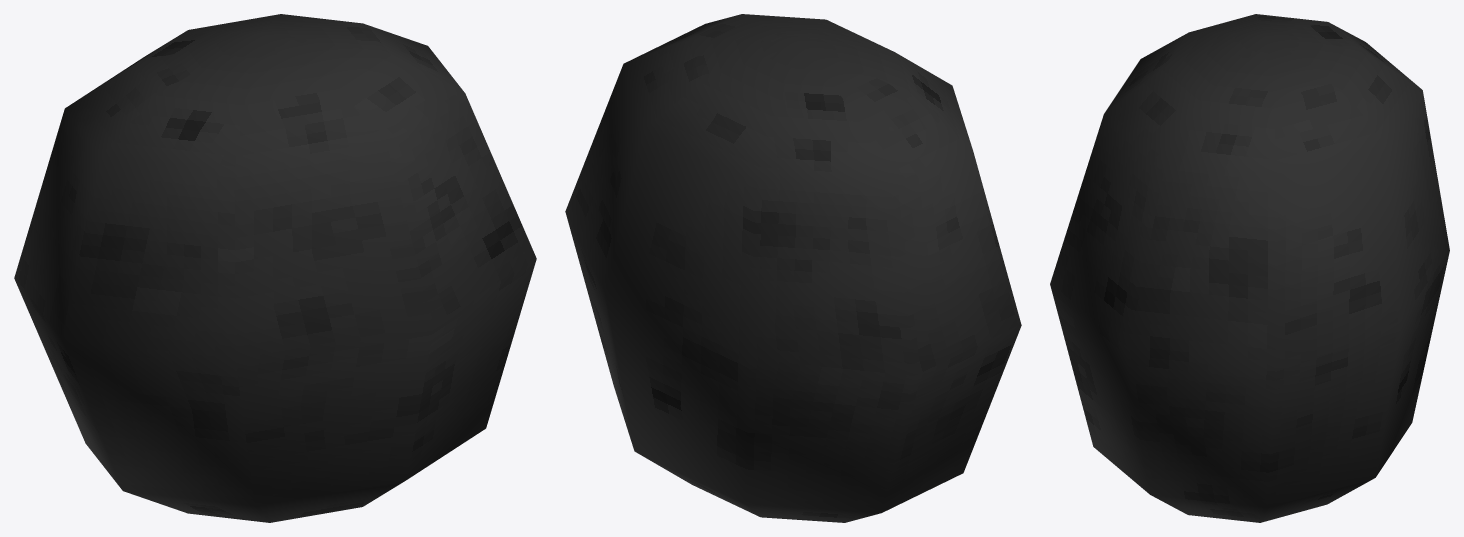
File: H_Truffle.fbx
3 views of the same model, side by side, from view 1: azimuth 30°, elevation 25°; view 2: azimuth 150°, elevation 25°; view 3: azimuth 270°, elevation 25° (orthographic). The views are drawn at different scales.
Visible parts, largest first — view 1: truffle; view 2: truffle; view 3: truffle.
Boxes of the visible parts, x1,y1,x2,y2 form: truffle: [14, 14, 536, 522]; truffle: [565, 14, 1021, 522]; truffle: [1050, 14, 1449, 522].
Bounding box in the file's own units: 14.24 × 14.36 × 11.42.
